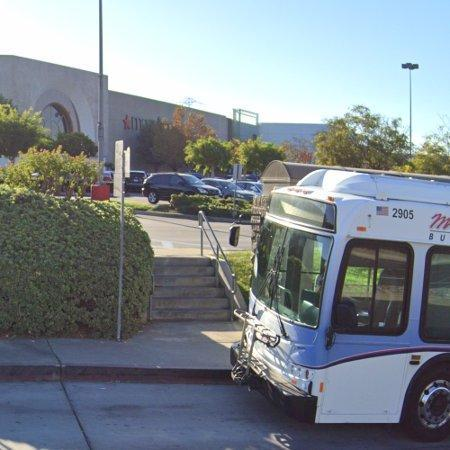buses: (233, 170, 450, 424)
